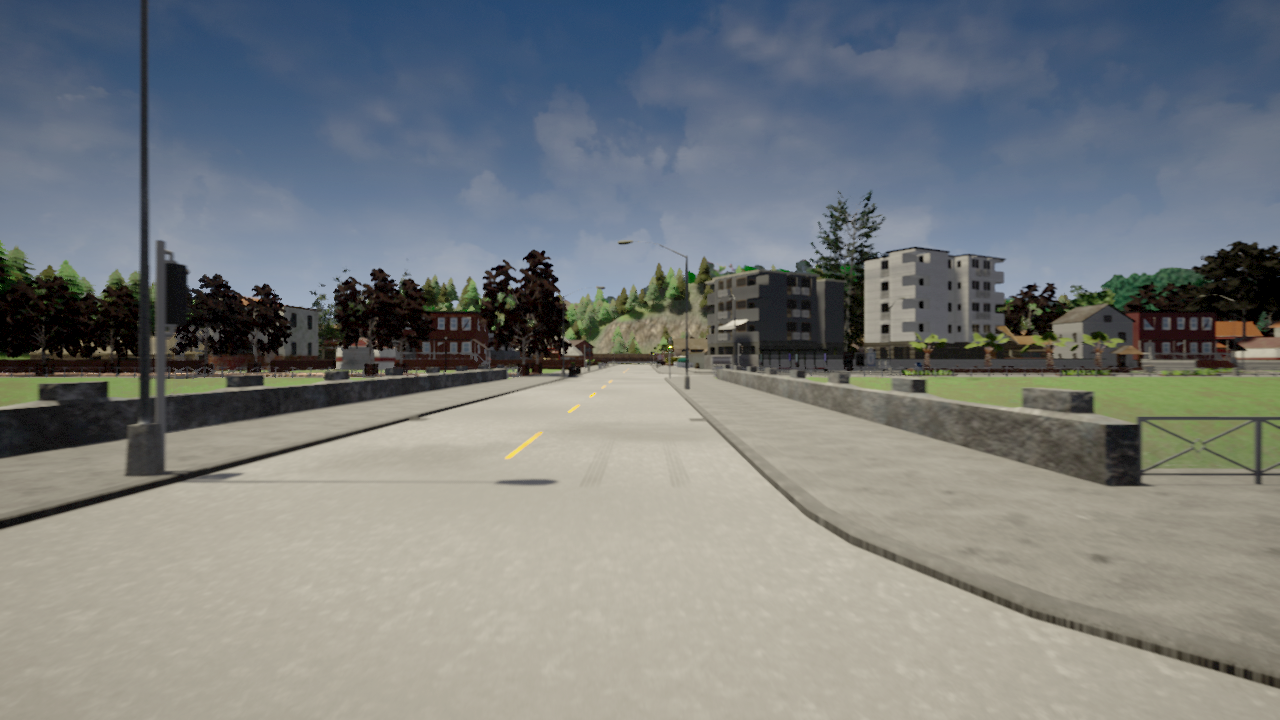yellow: (667, 340, 673, 354)
